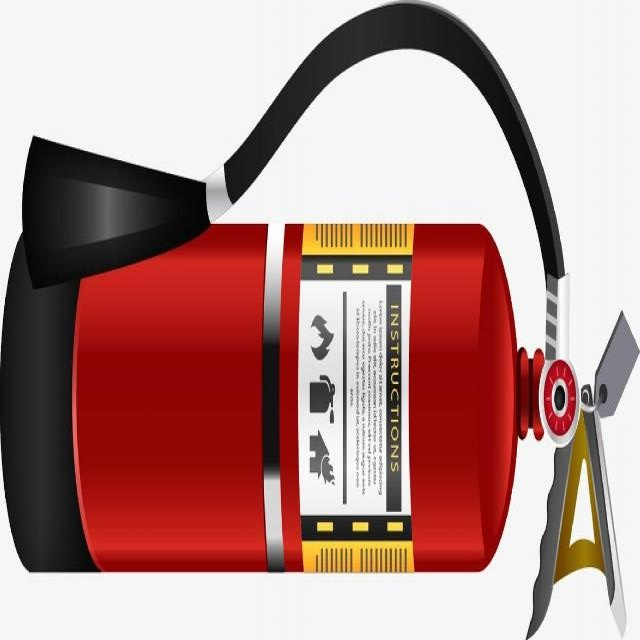fire extinguisher: (1, 2, 639, 640)
